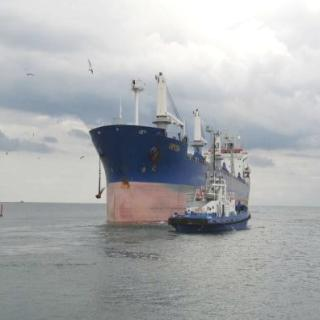Bulk Carrier: (86, 65, 248, 226)
